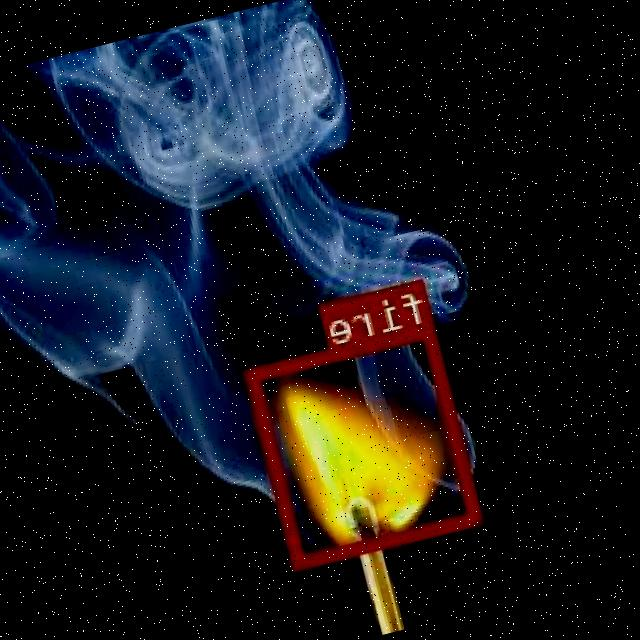fire: (247, 320, 484, 566)
